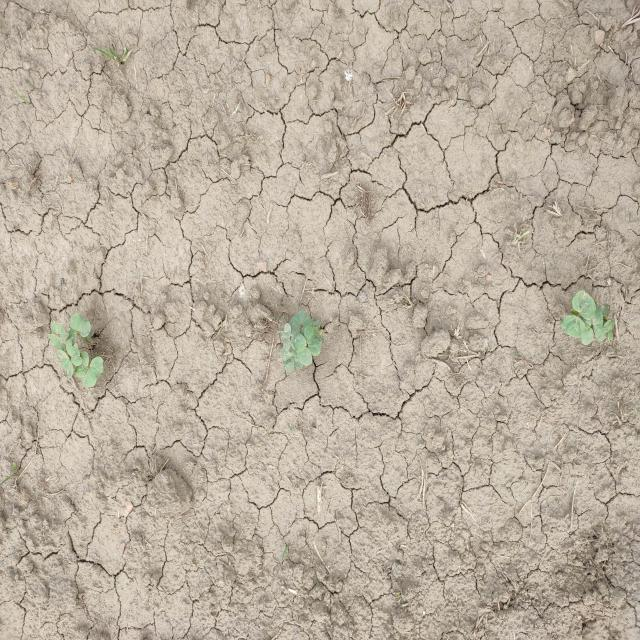seedling_s2: (572, 291, 596, 320), (82, 356, 104, 387), (295, 334, 313, 366), (562, 315, 585, 338), (304, 326, 321, 356), (70, 313, 91, 337), (592, 309, 607, 341), (57, 350, 74, 378), (289, 310, 307, 336), (579, 315, 594, 345), (66, 340, 82, 366), (75, 351, 89, 378), (281, 348, 294, 373), (51, 322, 69, 339), (48, 334, 66, 351), (281, 323, 291, 351), (291, 348, 303, 370), (301, 316, 314, 336), (604, 320, 615, 341), (291, 328, 301, 350), (312, 321, 321, 336), (316, 330, 324, 345)
